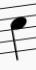HC: (8, 4, 28, 63)
